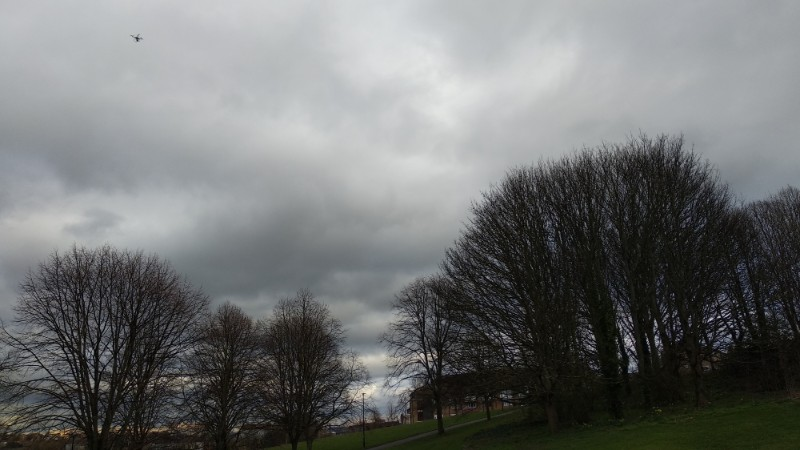drone: (131, 34, 145, 44)
